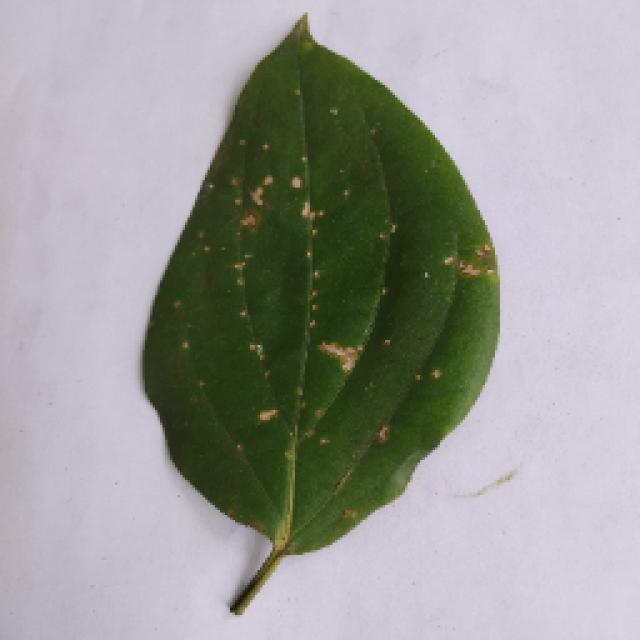pollu-disease: (138, 15, 500, 610)
